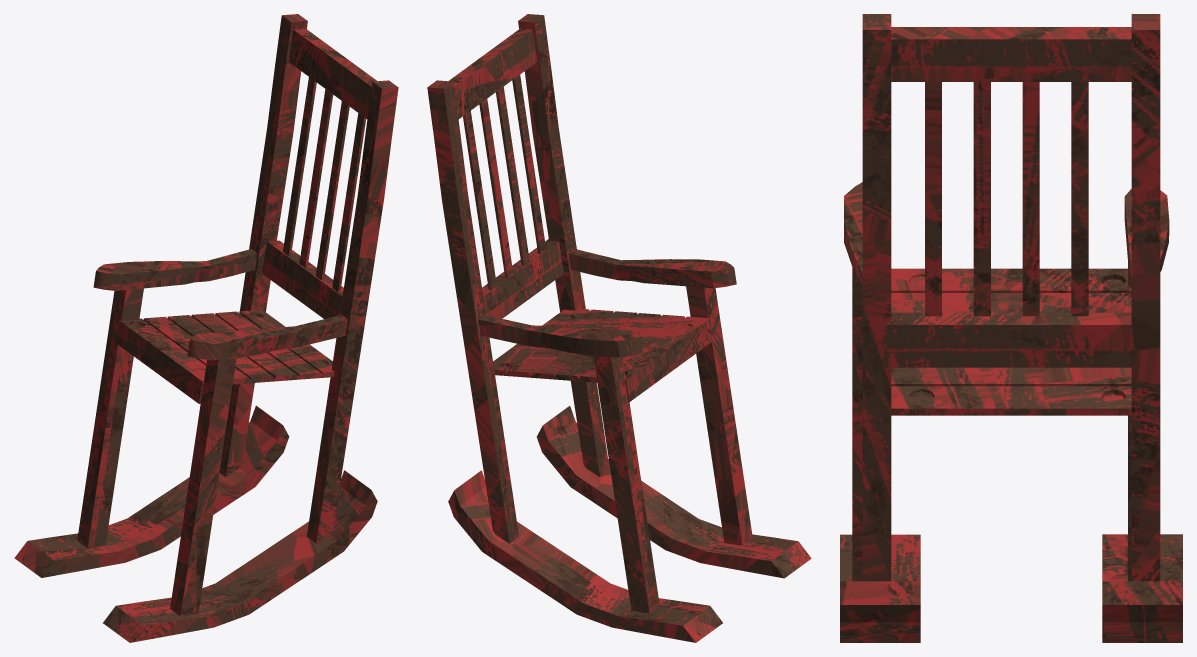
File: MesedoraFinal.fbx
3 renders of one model, left to right at view 1: azimuth 30°, elevation 25°; view 2: azimuth 150°, elevation 25°; view 3: azimuth 270°, elevation 25°, orthographic. The views are drawn at different scales.
Visible parts, largest first — view 1: lp_troncoDerecho, lp_mesedoraD, lp_mesedoraI, lp_asiento, lp_troncoIzquierdo, lp_pataDD, lp_paraDI, lp_recargaManosI, lp_recargaManosD, lp_arriba, lp_abajo, lp_atras1 (+3 smaller); view 2: lp_troncoIzquierdo, lp_mesedoraI, lp_mesedoraD, lp_troncoDerecho, lp_asiento, lp_paraDI, lp_pataDD, lp_recargaManosD, lp_recargaManosI, lp_arriba, lp_abajo, lp_atras2 (+3 smaller); view 3: lp_asiento, lp_troncoIzquierdo, lp_troncoDerecho, lp_abajo, lp_arriba, lp_mesedoraI, lp_mesedoraD, lp_atras, lp_atras1, lp_atras2, lp_atras3, lp_pataDD (+3 smaller).
Boxes of the visible parts, <box> form: lp_troncoDerecho: <box>307,80,398,543</box>; lp_mesedoraD: <box>103,470,377,642</box>; lp_mesedoraI: <box>14,405,289,577</box>; lp_asiento: <box>115,309,334,403</box>; lp_troncoIzquierdo: <box>219,14,307,476</box>; lp_pataDD: <box>170,358,236,616</box>; lp_paraDI: <box>77,288,143,548</box>; lp_recargaManosI: <box>93,249,257,290</box>; lp_recargaManosD: <box>187,315,347,360</box>; lp_arriba: <box>288,28,377,118</box>; lp_abajo: <box>262,240,343,318</box>; lp_atras1: <box>315,101,349,280</box>; lp_troncoIzquierdo: <box>427,80,518,543</box>; lp_mesedoraI: <box>448,470,722,642</box>; lp_mesedoraD: <box>536,406,811,578</box>; lp_troncoDerecho: <box>518,14,609,477</box>; lp_asiento: <box>493,308,712,402</box>; lp_paraDI: <box>593,356,659,613</box>; lp_pataDD: <box>686,286,752,545</box>; lp_recargaManosD: <box>568,249,736,288</box>; lp_recargaManosI: <box>478,315,642,357</box>; lp_arriba: <box>448,28,537,119</box>; lp_abajo: <box>482,239,563,318</box>; lp_atras2: <box>479,99,513,277</box>; lp_asiento: <box>891,268,1131,415</box>; lp_troncoIzquierdo: <box>1131,14,1160,581</box>; lp_troncoDerecho: <box>862,14,891,581</box>; lp_abajo: <box>883,312,1131,367</box>; lp_arriba: <box>891,27,1131,81</box>; lp_mesedoraI: <box>1102,534,1182,642</box>; lp_mesedoraD: <box>840,534,920,642</box>; lp_atras: <box>1071,82,1088,316</box>; lp_atras1: <box>973,82,990,316</box>; lp_atras2: <box>1022,82,1039,316</box>; lp_atras3: <box>925,82,941,316</box>; lp_pataDD: <box>852,267,862,581</box>.
Bounding box in the file's own units: 1.9 × 3.23 × 1.38.
